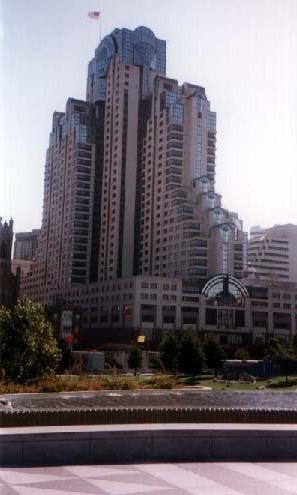building: (17, 24, 297, 372)
